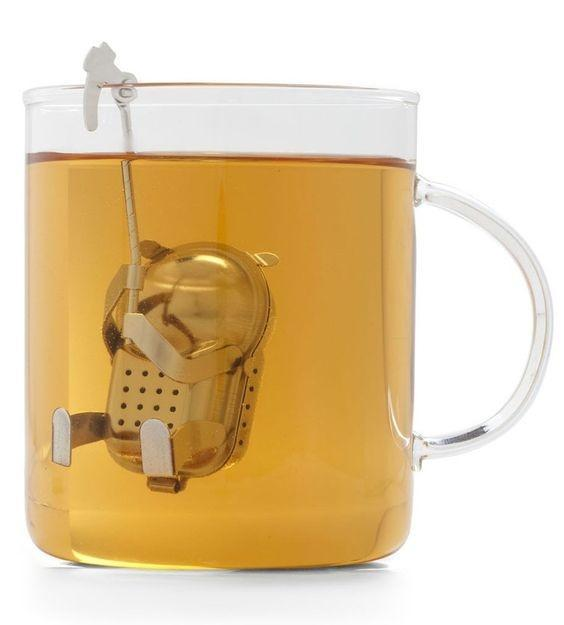glass-mug: (11, 70, 561, 572)
